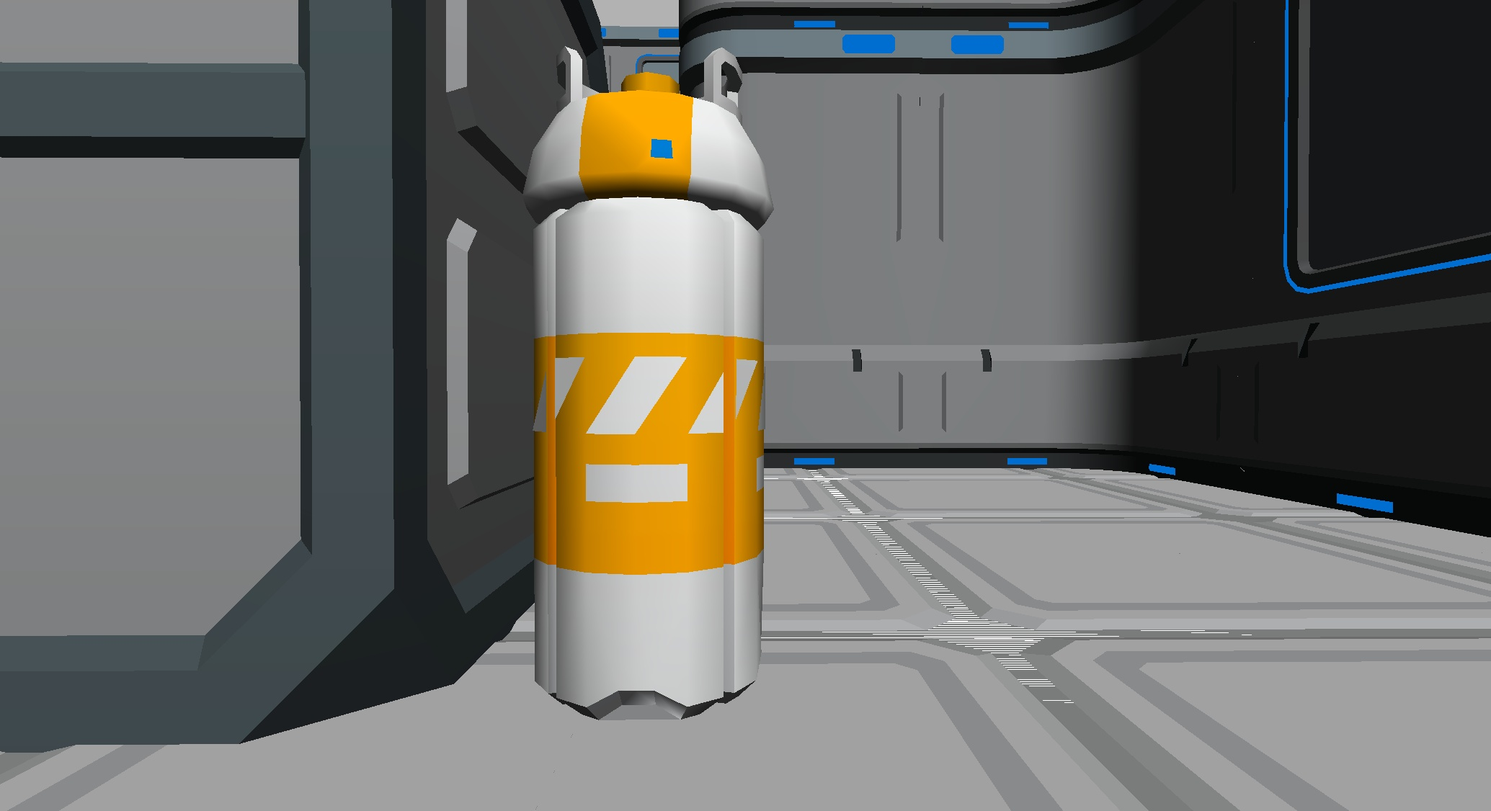yellow_barrel: (645, 387, 1227, 674)
